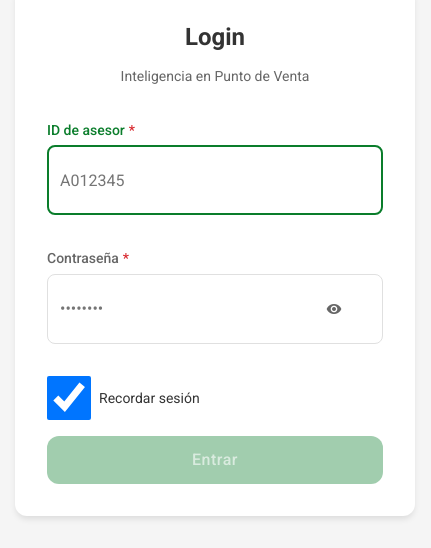
LoginScreen › Form Validation › should show validation error for invalid ID format
Step 1. Type "invalid@" into the field with placeholder "A012345" → [215, 180], box [60,158,370,202]
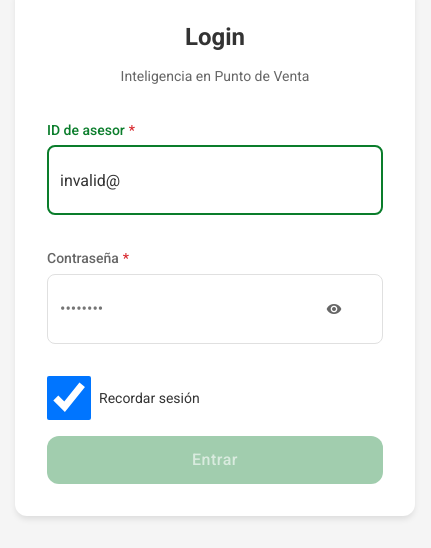
Step 2. Type "password123" into the password field with placeholder "••••••••" → [189, 309], box [60,287,318,331]
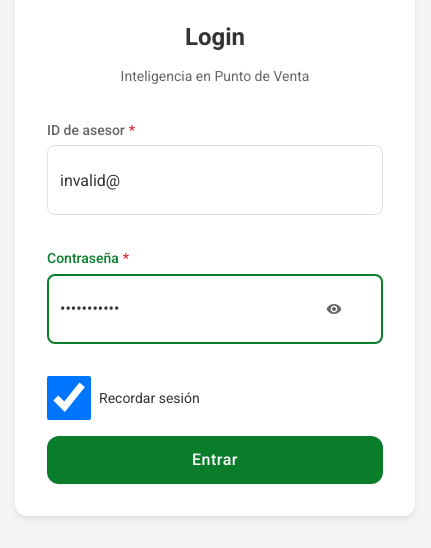
Step 3. Click the button "Entrar" → [215, 460], box [47,436,383,484]
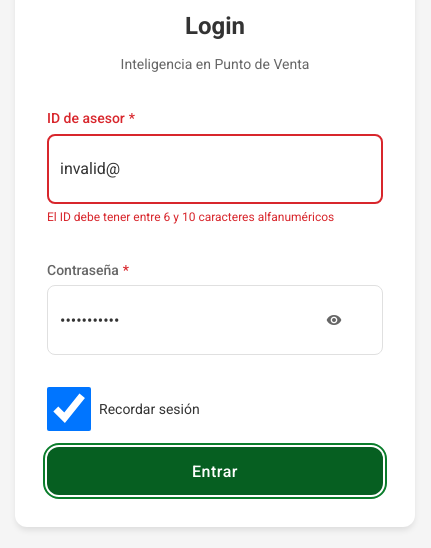
Result: the text "El ID debe tener entre 6 y 10 caracteres alfanuméricos" is shown at [47,208,383,227]
